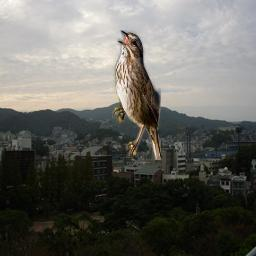Sparrow: (112, 30, 161, 160)
